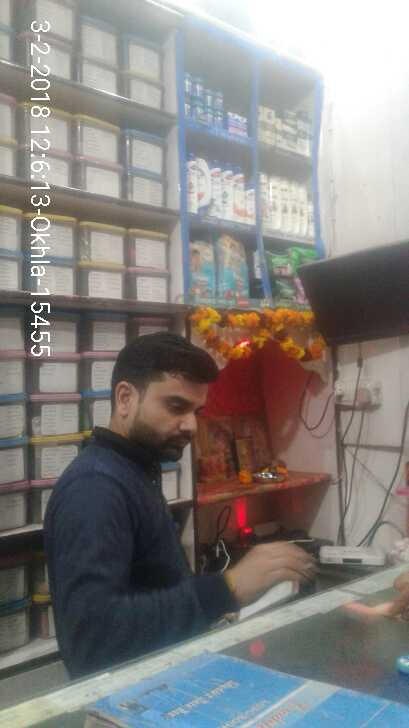vicks: (183, 71, 252, 137)
